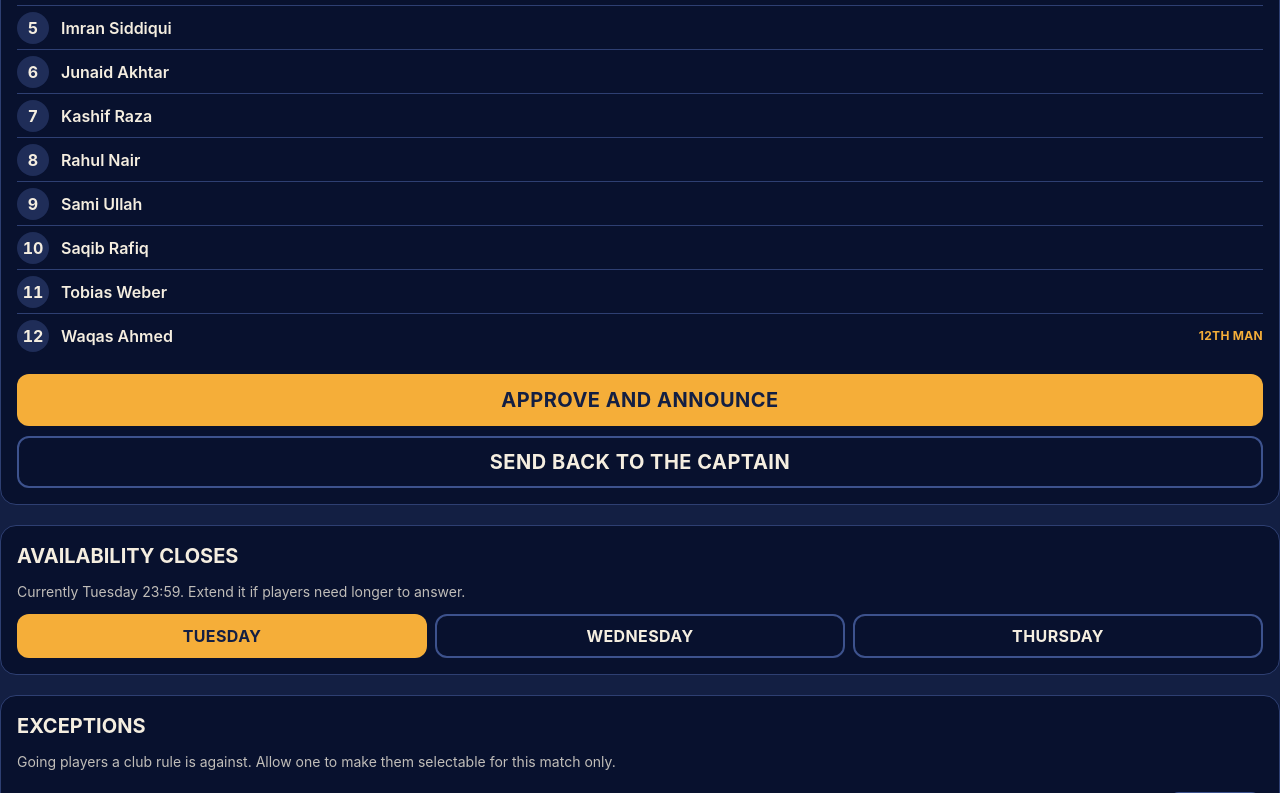
Scenario: BoardSquadView › says when a decision failed and keeps the squad as it was
(page scrolled)
Click the button "Approve and announce": (640, 400) [17,374,1263,426]
(page scrolled)
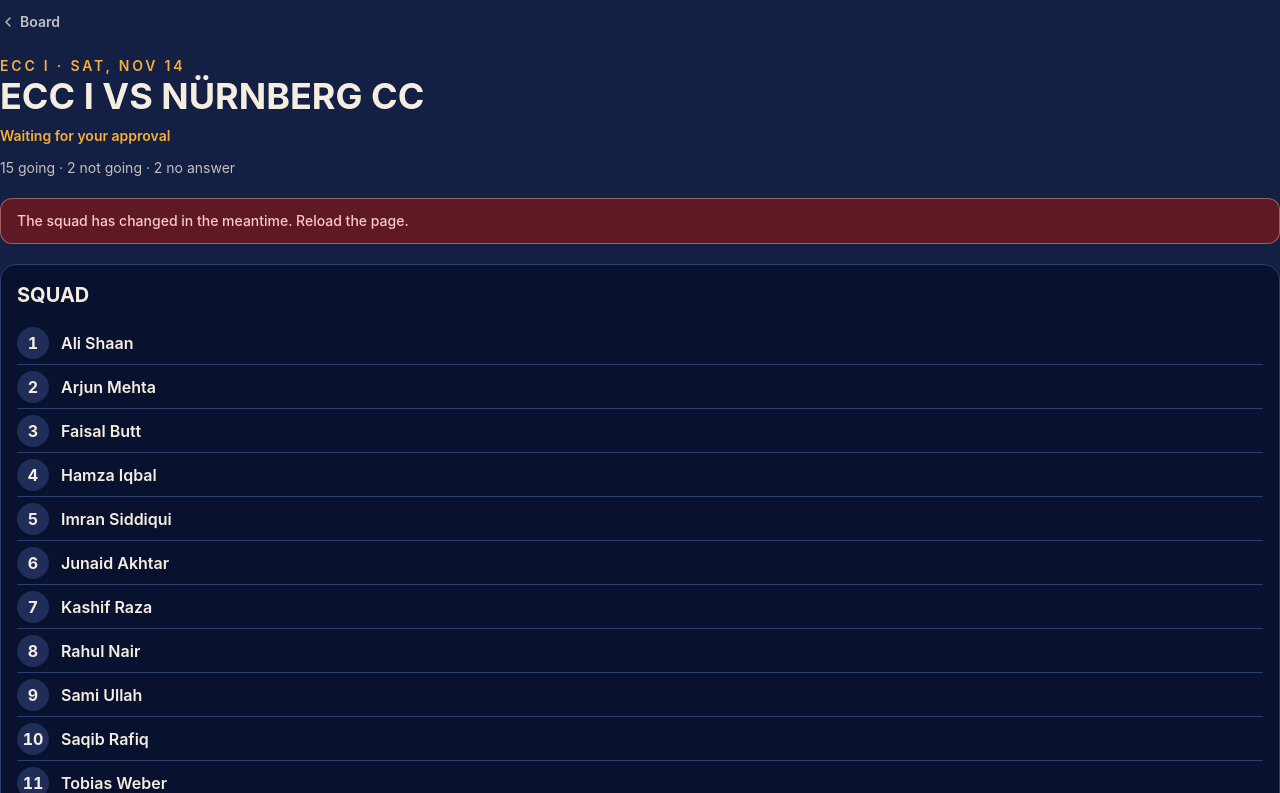
Expected: the text "Waiting for your approval" is shown, [0,127,170,144]
Expected: the message reads "The squad has changed in the meantime. Reload the page.", [17,212,409,229]
